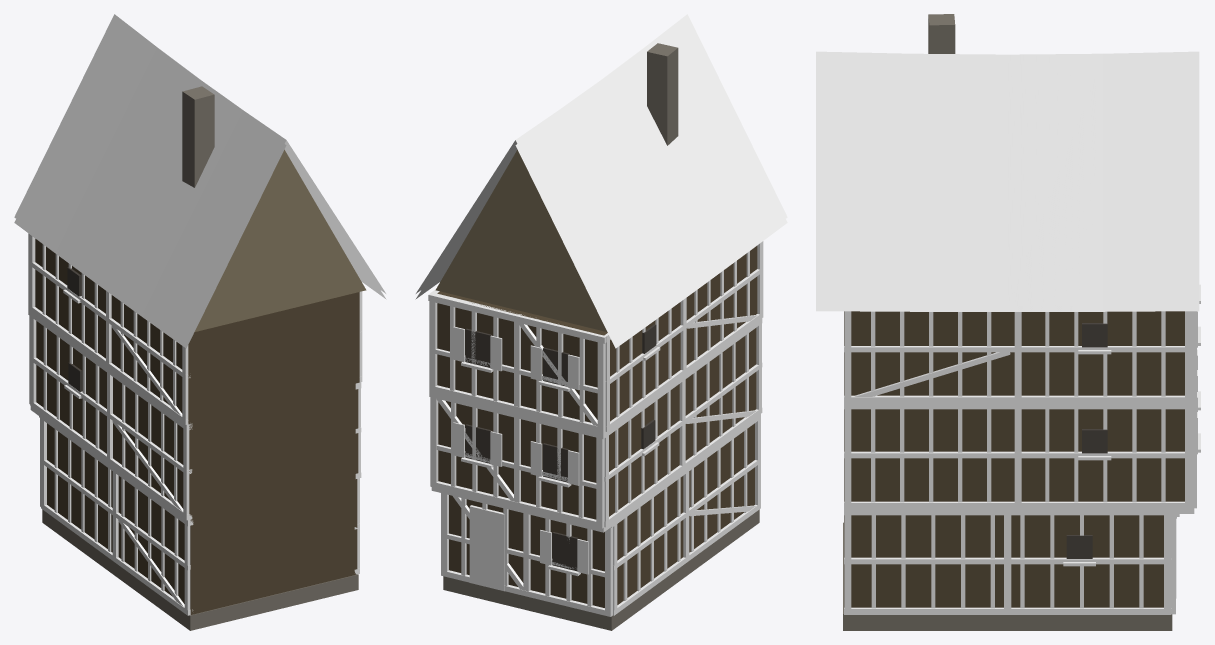
Rendered from house_narrow_c.glb.
3 renders of one model, left to right at view 1: azimuth 30°, elevation 25°; view 2: azimuth 150°, elevation 25°; view 3: azimuth 270°, elevation 25°, orthographic. The views are drawn at different scales.
Parts seen in each view (by area): view 1: house_narrow_c; view 2: house_narrow_c; view 3: house_narrow_c.
Part boxes in pixels (box(x1,y1,x2,y2)): house_narrow_c: box(14, 14, 386, 630); house_narrow_c: box(415, 14, 787, 630); house_narrow_c: box(816, 14, 1200, 630).
Size of the model in its own units: 5.48 by 12.87 by 8.18.
